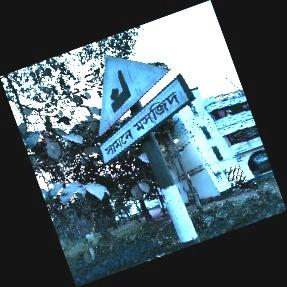Mosque in front: (98, 56, 198, 167)
